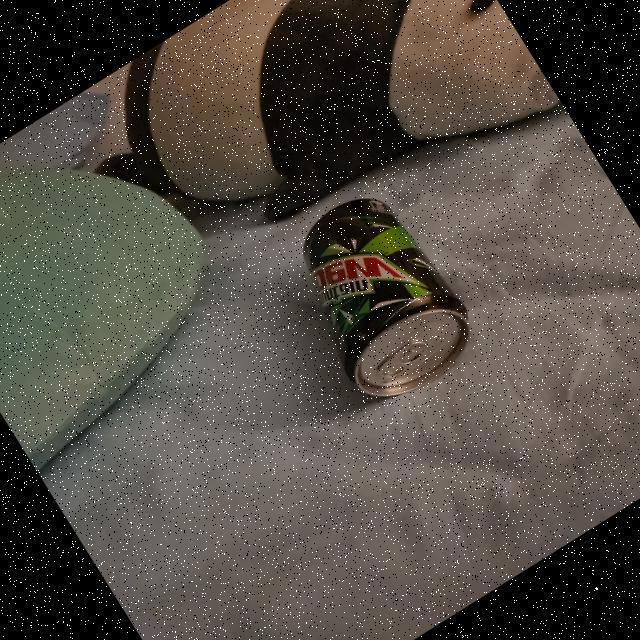can: (258, 170, 493, 422)
